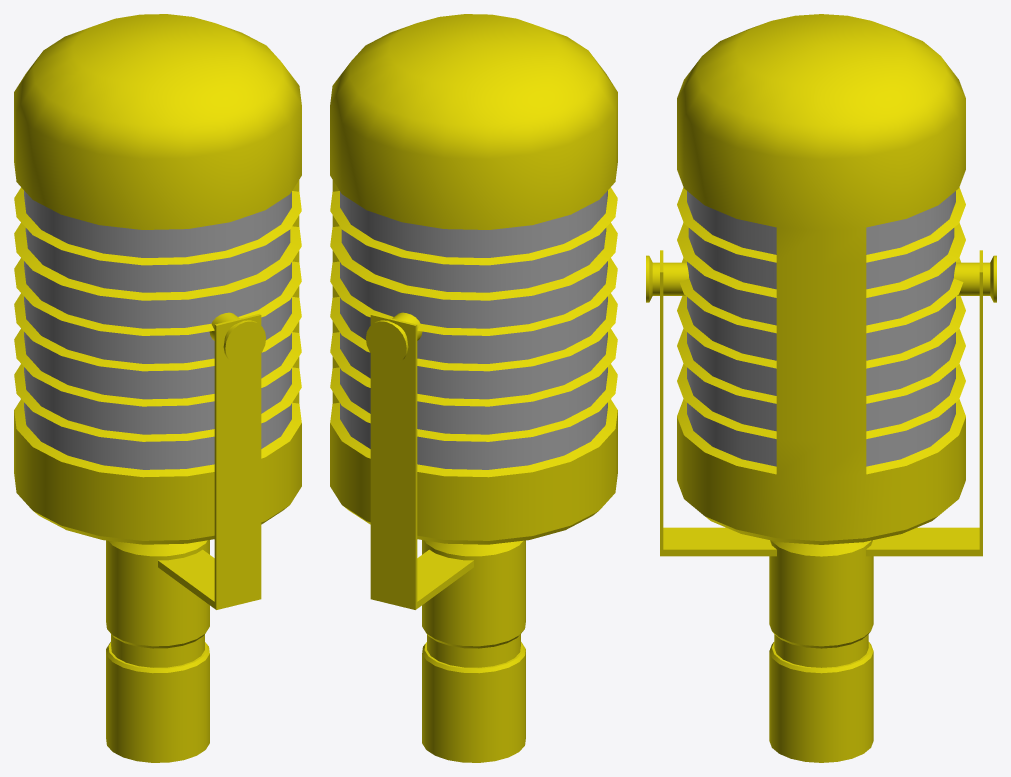
Rendered from WW_WonderLandRibbonMic_Prop.fbx.
The picture shows the model from 3 angles, left to right: view 1: azimuth 30°, elevation 25°; view 2: azimuth 150°, elevation 25°; view 3: azimuth 270°, elevation 25°; orthographic projection.
Visible parts, largest first — view 1: WLMic, WLMicBase, WLMicStand, WLMicScrew; view 2: WLMic, WLMicBase, WLMicStand, WLMicScrew1; view 3: WLMic, WLMicBase, WLMicStand, WLMicScrew, WLMicScrew1.
Boxes of the visible parts, x1,y1,x2,y2 form: WLMic: (14,14,301,544); WLMicBase: (106,540,209,762); WLMicStand: (158,313,261,609); WLMicScrew: (209,312,266,365); WLMic: (330,14,617,544); WLMicBase: (422,540,525,762); WLMicStand: (370,313,473,609); WLMicScrew1: (365,312,422,365); WLMic: (677,14,965,544); WLMicBase: (769,540,873,762); WLMicStand: (660,250,982,556); WLMicScrew: (646,255,688,302); WLMicScrew1: (954,255,996,302).
Size of the model in its own units: 17.22 by 45.76 by 20.9.
